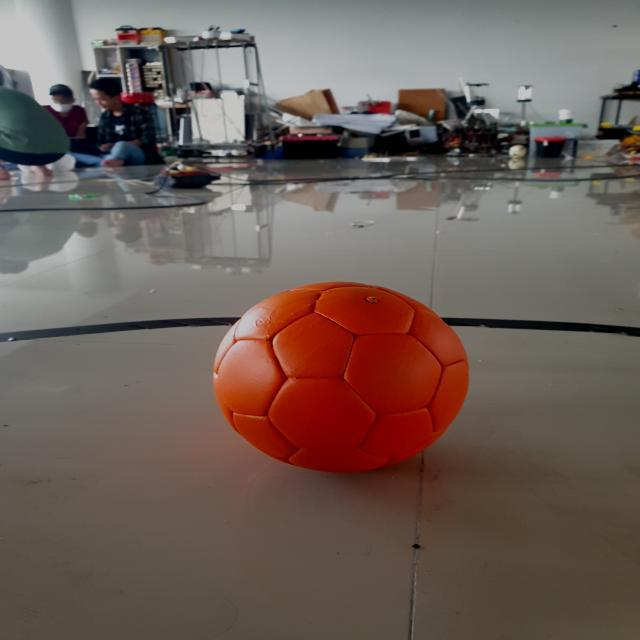bola: (208, 278, 478, 482)
